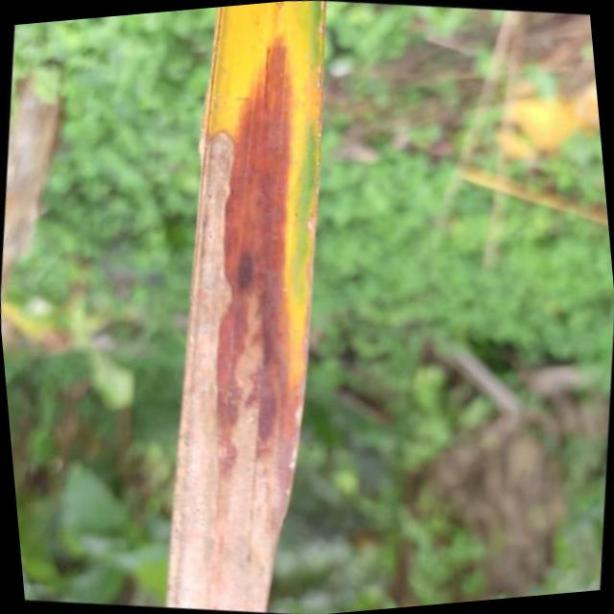Megnesium: (165, 0, 326, 603)
